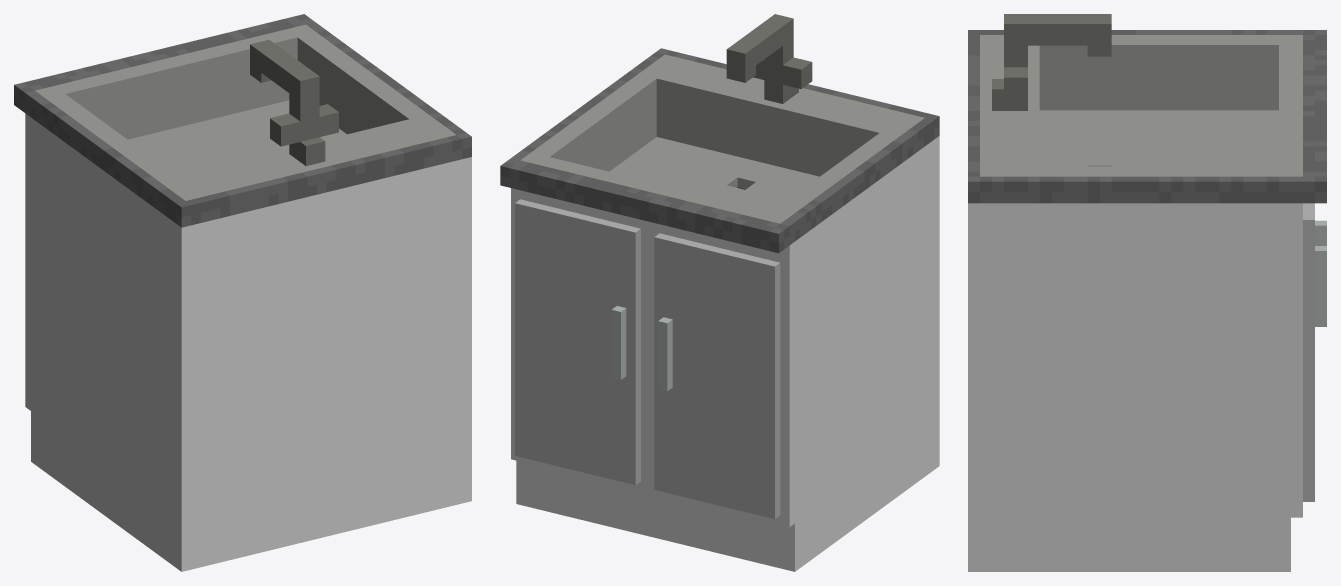
Rendered from countertop_03.dae.
3 renders of one model, left to right at view 1: azimuth 30°, elevation 25°; view 2: azimuth 150°, elevation 25°; view 3: azimuth 270°, elevation 25°, orthographic. The views are drawn at different scales.
Parts seen in each view (by area): view 1: Untitled; view 2: Untitled; view 3: Untitled.
Part boxes in pixels (x1,y1,x2,y2): Untitled: [14, 14, 471, 571]; Untitled: [500, 14, 939, 571]; Untitled: [968, 14, 1326, 571].
Bounding box in the file's own units: 0.9 × 0.9 × 1.32.
1 material, 1 textured.
